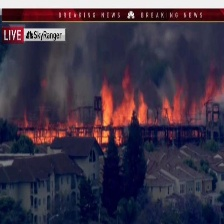fire: (22, 86, 220, 146)
smoke: (2, 18, 222, 110)
